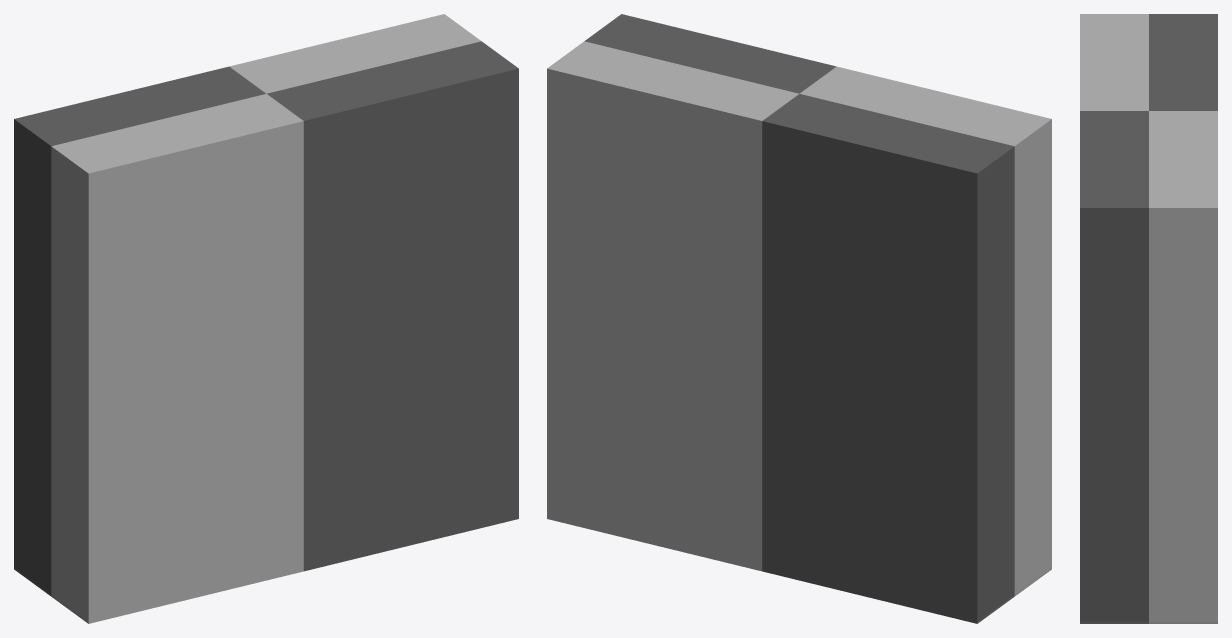
File: PereteFBX.fbx
3 views of the same model, side by side, from view 1: azimuth 30°, elevation 25°; view 2: azimuth 150°, elevation 25°; view 3: azimuth 270°, elevation 25° (orthographic). The views are drawn at different scales.
Parts seen in each view (by area): view 1: floor; view 2: floor; view 3: floor.
Part boxes in pixels (x1,y1,x2,y2): floor: (14,14,518,623); floor: (547,14,1051,623); floor: (1080,14,1217,623).
Size of the model in its own units: 100 by 100 by 30.
